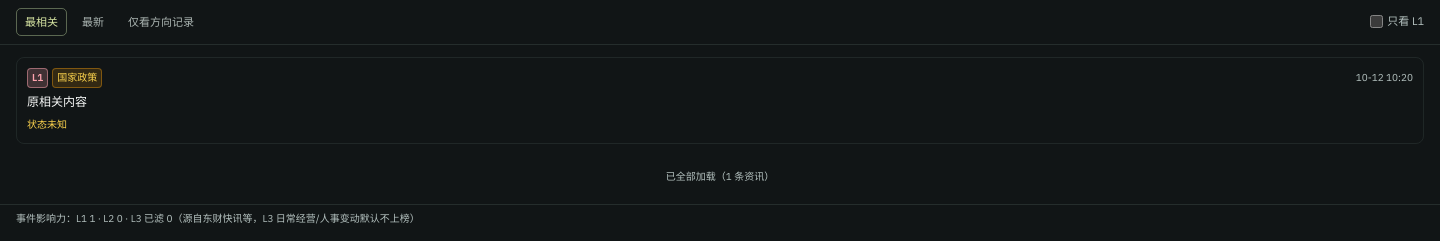
Test: 资讯事件 · 请求身份与无感刷新 › 已成功旧排序也不在新排序尚未完成时展示
Click the button "最新" at (93,22), box [73, 8, 113, 36]
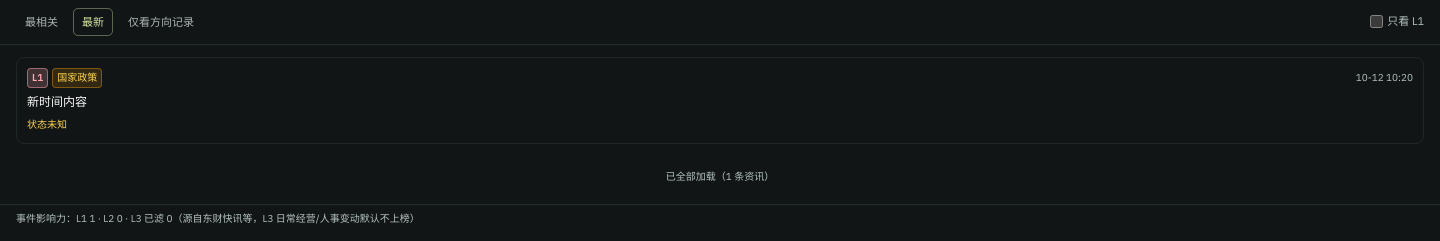
Check: the button "原相关内容" is gone
Check: the button "新时间内容" is shown, box [27, 92, 1413, 111]
